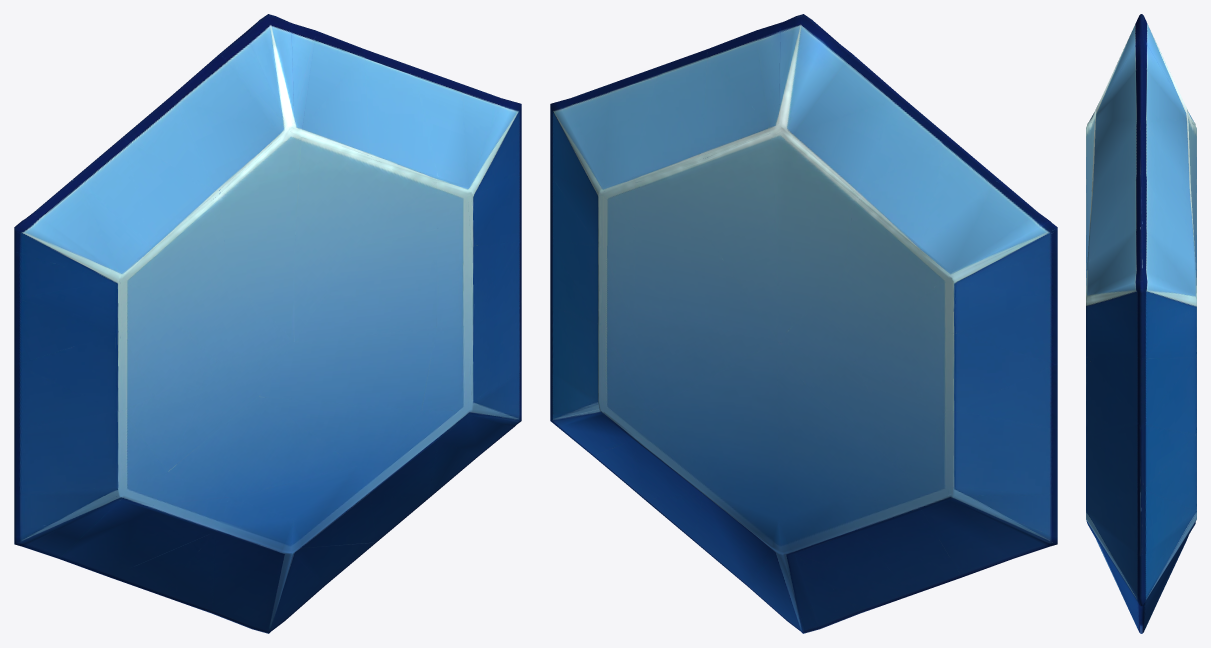
Rendered from blue_hexagonal_crystal.glb.
The picture shows the model from 3 angles, left to right: view 1: azimuth 30°, elevation 25°; view 2: azimuth 150°, elevation 25°; view 3: azimuth 270°, elevation 25°; orthographic projection.
Parts seen in each view (by area): view 1: Object_5; view 2: Object_5; view 3: Object_5.
Part boxes in pixels (x1,y1,x2,y2): Object_5: [14, 14, 521, 633]; Object_5: [550, 14, 1057, 633]; Object_5: [1086, 14, 1196, 633].
Size of the model in its own units: 1.63 by 1.91 by 0.3092.
Materials: 1 (1 with a texture image).
